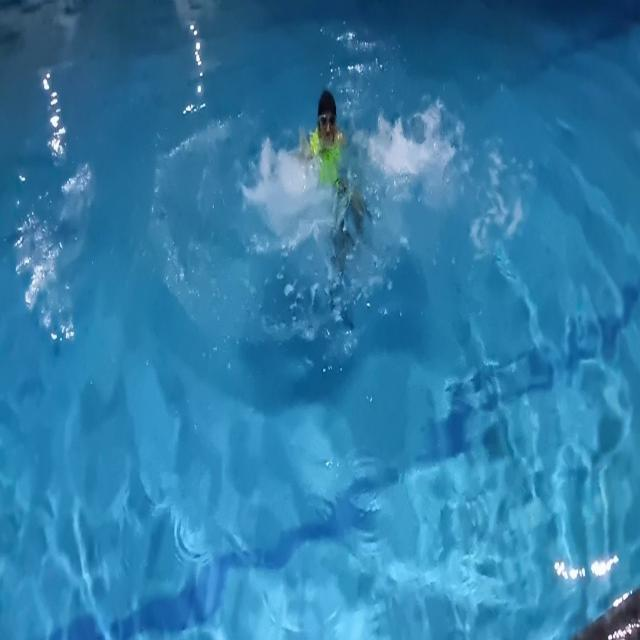Drowning: (248, 70, 454, 359)
